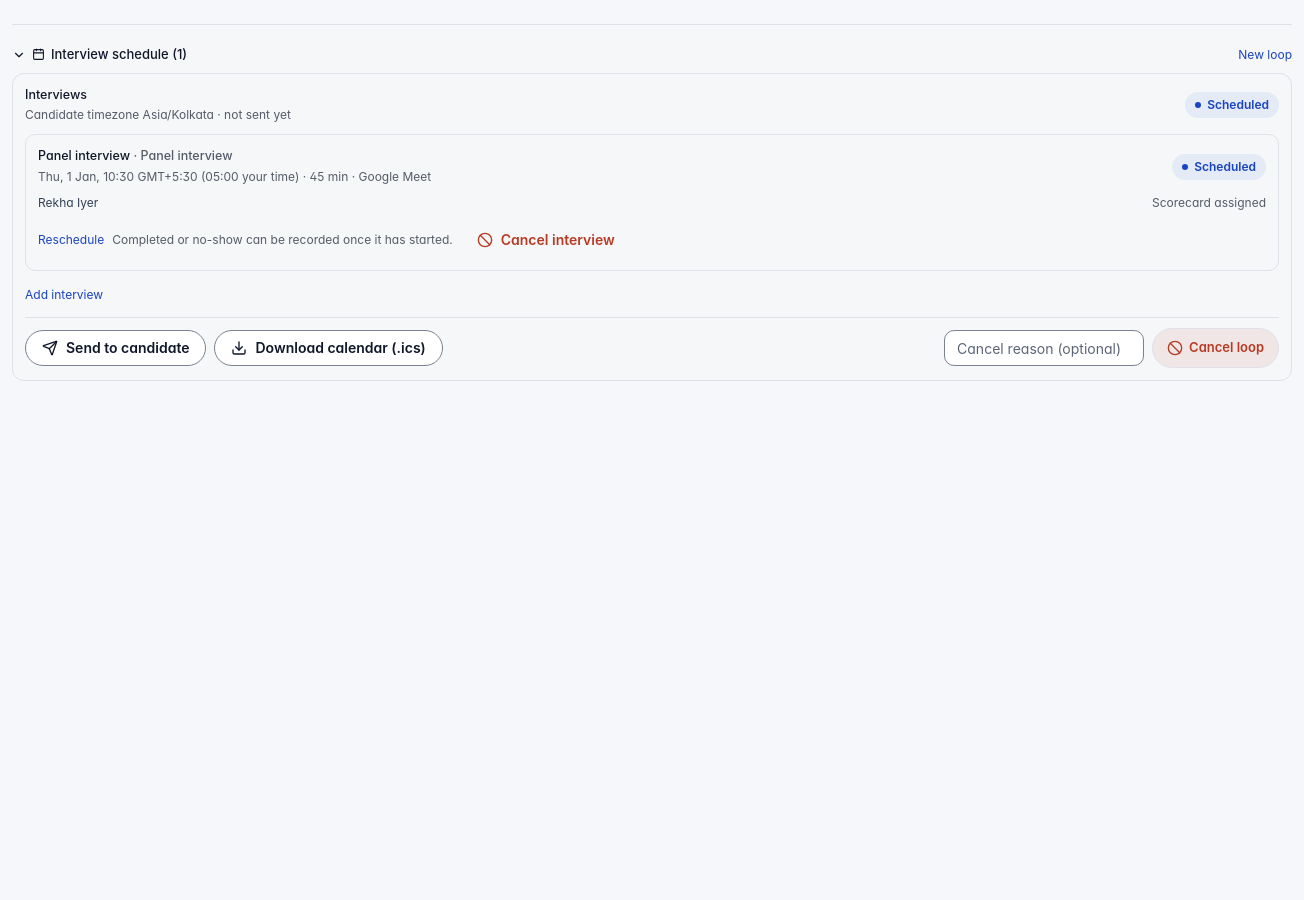
Test: InterviewLoopsSection - a session’s controls › pre-fills reschedule with the session’s LOCAL wall time
This screenshot has width=1304, height=900.
Click the button "Reschedule" at coordinates (71, 240), box 38,231 -> 104,249
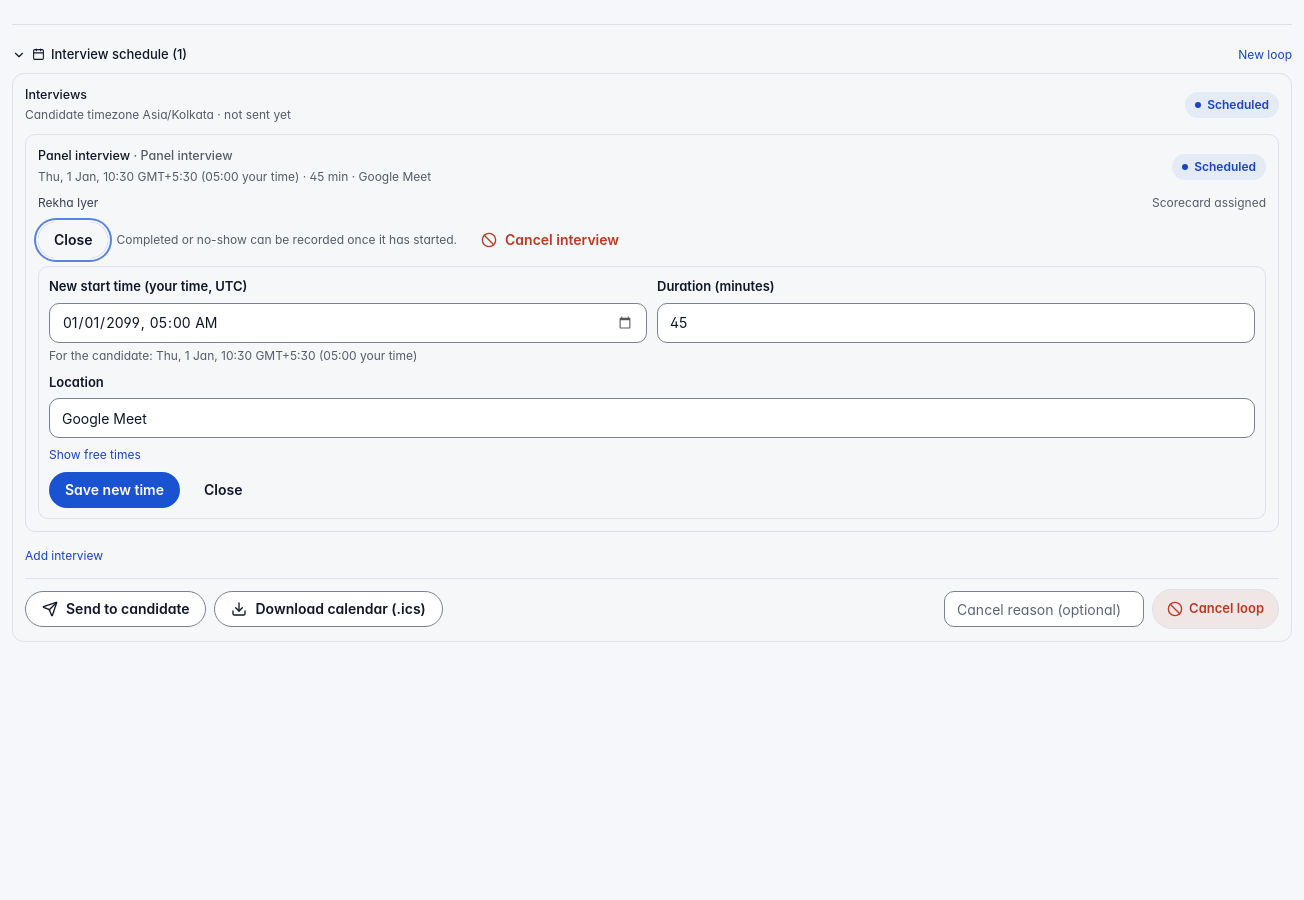
expect the field labelled "New start time (your time, UTC)" holds "2099-01-01T05:00": met, box 49,302 -> 647,342
